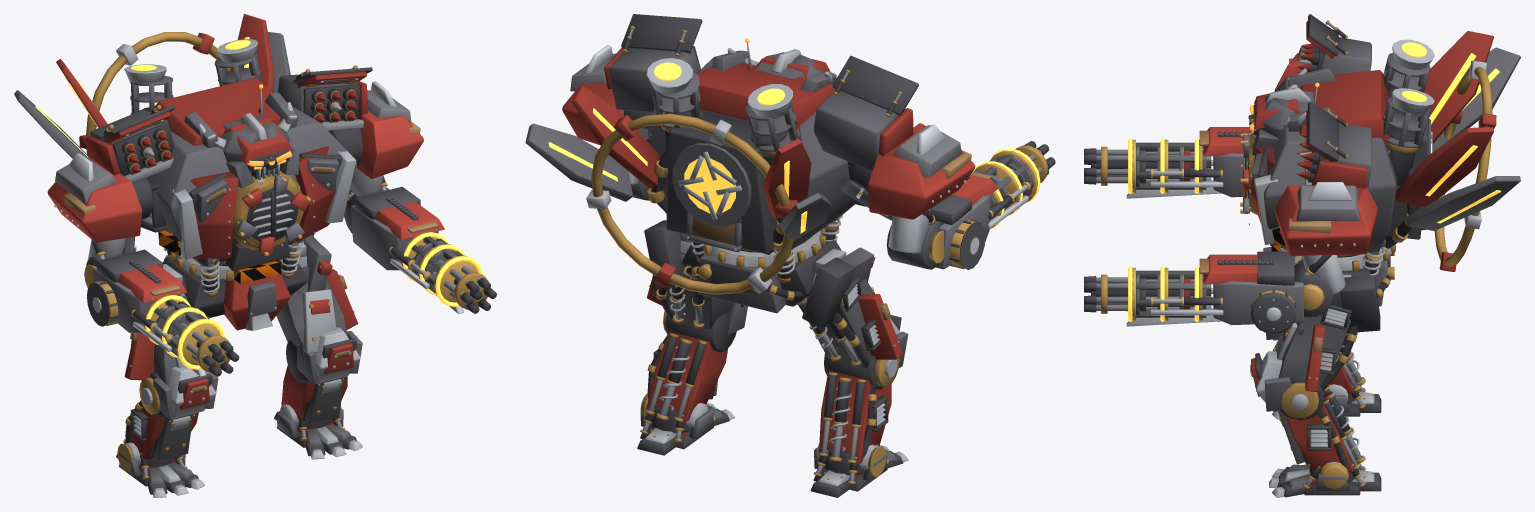
Rendered from colossus_iv.glb.
3 views of the same model, side by side, from view 1: azimuth 30°, elevation 25°; view 2: azimuth 150°, elevation 25°; view 3: azimuth 270°, elevation 25° (orthographic). The views are drawn at different scales.
Parts seen in each view (by area): view 1: BodyGroup_ArmorAlloy, RightArm_ArmorAlloy, LeftArm_ArmorAlloy, Pelvis_ArmorAlloy, RightShin_ArmorAlloy, LeftShin_ArmorAlloy, Shoulder_MissileCitadel_R_ArmorAlloy, Shoulder_MissileCitadel_L_ArmorAlloy, HeadGroup_ArmorAlloy, LeftThigh_ArmorAlloy, RightFoot_ArmorAlloy, LeftFoot_ArmorAlloy (+11 smaller); view 2: BodyGroup_ArmorAlloy, RightArm_ArmorAlloy, Pelvis_ArmorAlloy, Shoulder_MissileCitadel_R_ArmorAlloy, OrbitRing_0_ArmorAlloy, LeftShin_ArmorAlloy, RightShin_ArmorAlloy, Shoulder_MissileCitadel_L_ArmorAlloy, RightThigh_ArmorAlloy, BodyGroup_A1_MoltenFurnace, LeftFoot_ArmorAlloy, RightFoot_ArmorAlloy (+5 smaller); view 3: BodyGroup_ArmorAlloy, LeftArm_ArmorAlloy, LeftShin_ArmorAlloy, Shoulder_MissileCitadel_L_ArmorAlloy, LeftThigh_ArmorAlloy, RightArm_ArmorAlloy, Pelvis_ArmorAlloy, CannonSlide_L_ArmorAlloy, LeftFoot_ArmorAlloy, CannonSlide_R_ArmorAlloy, Shoulder_MissileCitadel_R_ArmorAlloy, OrbitRing_0_ArmorAlloy (+9 smaller).
Boxes of the visible parts, <box> form: BodyGroup_ArmorAlloy: <box>14,14,356,296</box>; RightArm_ArmorAlloy: <box>47,153,206,376</box>; LeftArm_ArmorAlloy: <box>329,81,463,313</box>; Pelvis_ArmorAlloy: <box>163,233,332,330</box>; RightShin_ArmorAlloy: <box>123,366,218,460</box>; LeftShin_ArmorAlloy: <box>281,327,362,423</box>; Shoulder_MissileCitadel_R_ArmorAlloy: <box>85,105,175,183</box>; Shoulder_MissileCitadel_L_ArmorAlloy: <box>277,65,372,130</box>; HeadGroup_ArmorAlloy: <box>198,88,299,188</box>; LeftThigh_ArmorAlloy: <box>276,256,358,356</box>; RightFoot_ArmorAlloy: <box>116,442,204,497</box>; LeftFoot_ArmorAlloy: <box>274,404,362,459</box>; BodyGroup_ArmorAlloy: <box>525,50,865,283</box>; RightArm_ArmorAlloy: <box>838,123,1019,269</box>; Pelvis_ArmorAlloy: <box>644,220,875,328</box>; Shoulder_MissileCitadel_R_ArmorAlloy: <box>813,55,918,170</box>; OrbitRing_0_ArmorAlloy: <box>586,113,797,294</box>; LeftShin_ArmorAlloy: <box>645,303,747,421</box>; RightShin_ArmorAlloy: <box>818,315,908,464</box>; Shoulder_MissileCitadel_L_ArmorAlloy: <box>604,14,702,112</box>; RightThigh_ArmorAlloy: <box>796,273,903,367</box>; BodyGroup_A1_MoltenFurnace: <box>548,62,807,233</box>; LeftFoot_ArmorAlloy: <box>637,393,735,455</box>; RightFoot_ArmorAlloy: <box>810,443,908,497</box>; BodyGroup_ArmorAlloy: <box>1245,31,1520,276</box>; LeftArm_ArmorAlloy: <box>1126,182,1377,334</box>; LeftShin_ArmorAlloy: <box>1250,351,1365,471</box>; Shoulder_MissileCitadel_L_ArmorAlloy: <box>1297,101,1371,188</box>; LeftThigh_ArmorAlloy: <box>1273,310,1358,391</box>; RightArm_ArmorAlloy: <box>1126,35,1341,198</box>; Pelvis_ArmorAlloy: <box>1263,246,1394,332</box>; CannonSlide_L_ArmorAlloy: <box>1132,267,1223,320</box>; LeftFoot_ArmorAlloy: <box>1269,452,1381,497</box>; CannonSlide_R_ArmorAlloy: <box>1132,139,1223,192</box>; Shoulder_MissileCitadel_R_ArmorAlloy: <box>1297,14,1371,74</box>; OrbitRing_0_ArmorAlloy: <box>1434,60,1496,271</box>.
Size of the model in its own units: 3.98 by 4.14 by 4.33.
Materials: 6 (1 with a texture image).
